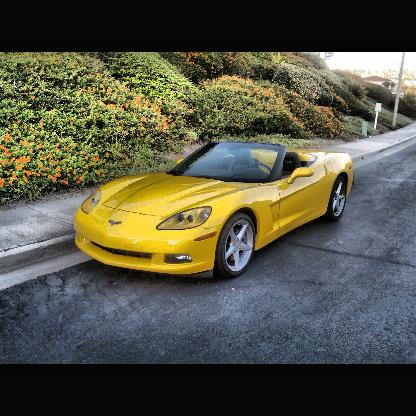Chevrolet Corvette Convertible 2012: (75, 142, 354, 280)
